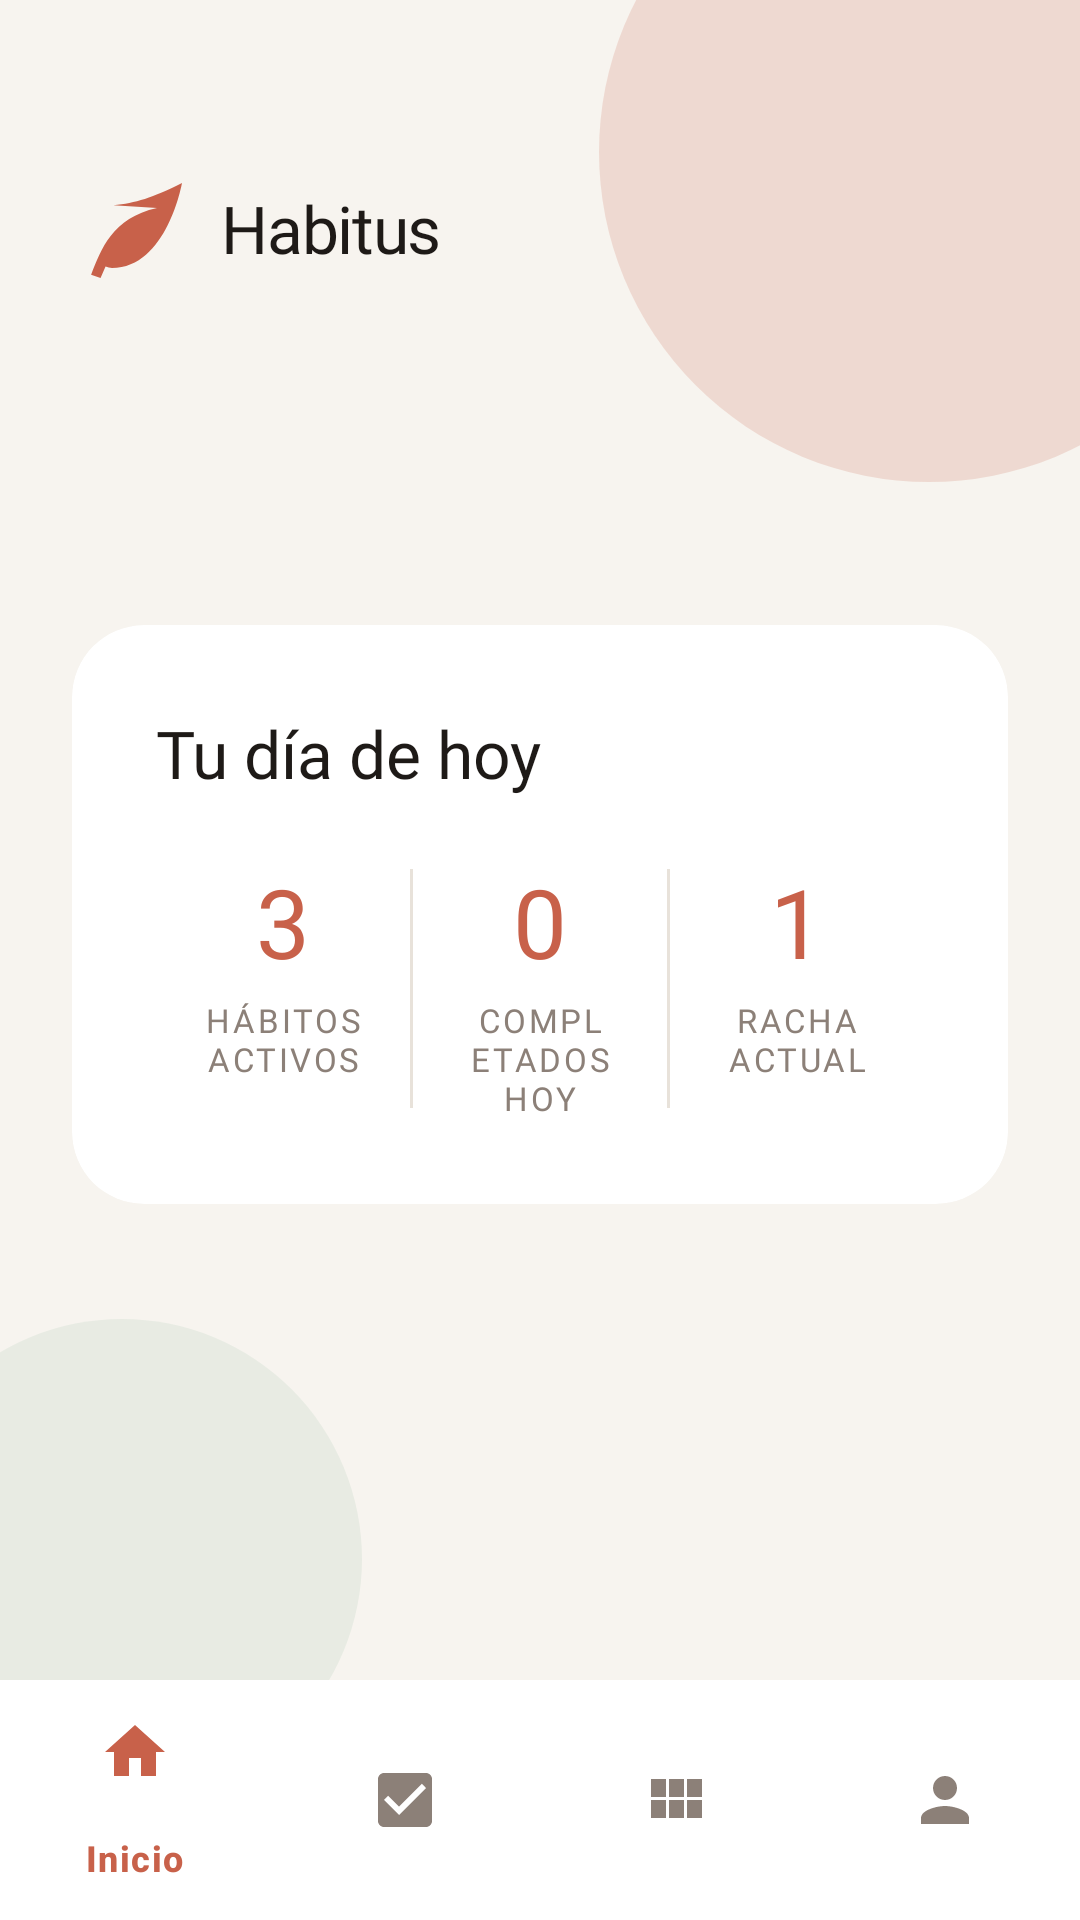

Icon bounding boxes for this 1080x1920 phone screenshot, format (x1, y1, x2, y2):
leaf: (91, 183, 182, 278)
